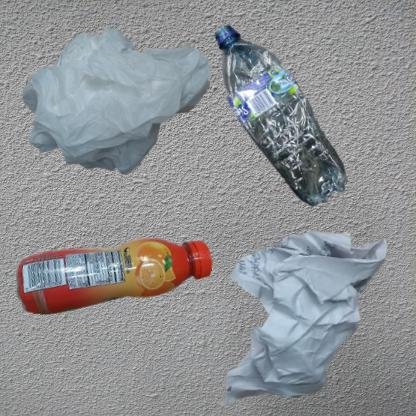bolsa: (10, 10, 239, 201)
botella: (213, 10, 360, 233), (10, 213, 233, 350)
papel: (213, 213, 394, 416)
